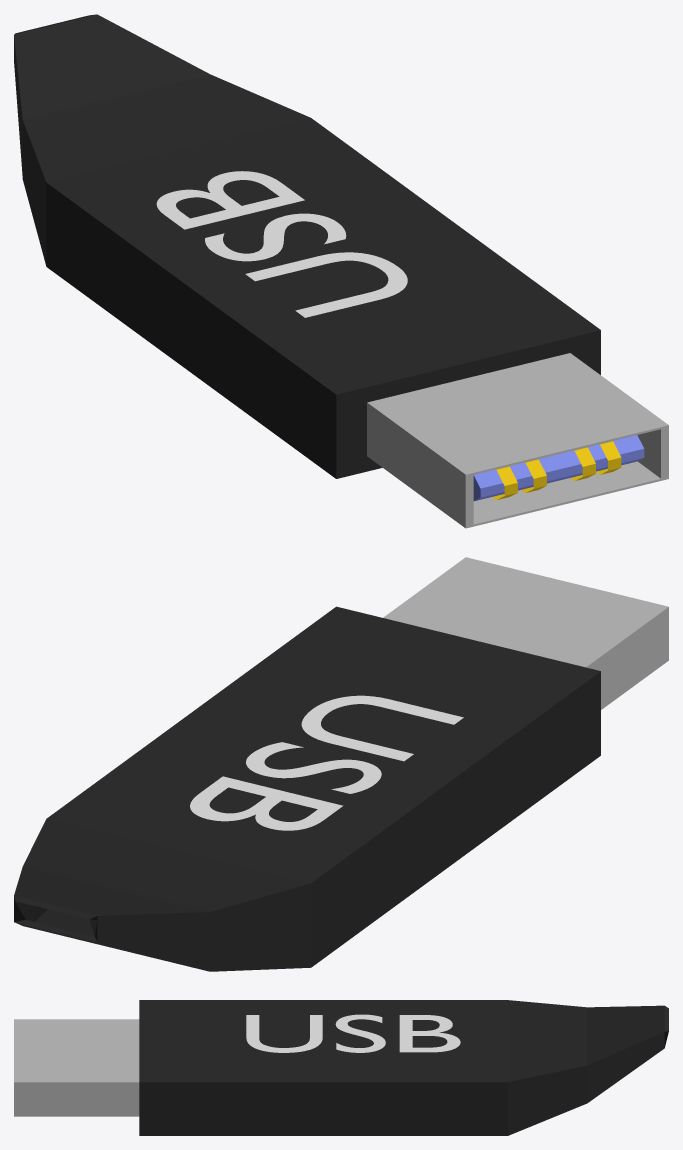
File: usbstick.glb
3 renders of one model, top to bottom at view 1: azimuth 30°, elevation 25°; view 2: azimuth 150°, elevation 25°; view 3: azimuth 270°, elevation 25°, orthographic. The views are drawn at different scales.
Parts seen in each view (by area): view 1: usbstick; view 2: usbstick; view 3: usbstick.
Part boxes in pixels (x1,y1,x2,y2): usbstick: (14,14,668,528); usbstick: (14,557,668,971); usbstick: (14,1000,668,1135).
Bounding box in the file's own units: 0.0221 × 0.00958 × 0.0746.
